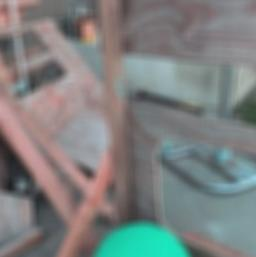algae: (91, 222, 192, 257)
